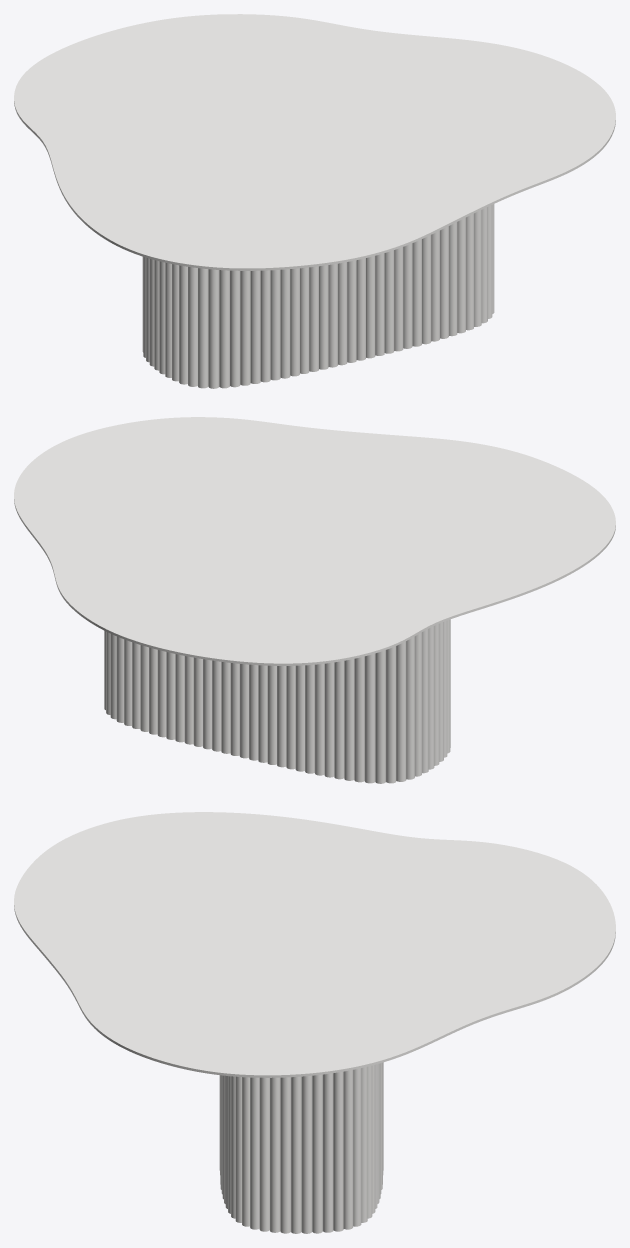
The model's file is purewhite_topone_facet_newtable.glb.
3 views of the same model, one above another, from view 1: azimuth 30°, elevation 25°; view 2: azimuth 150°, elevation 25°; view 3: azimuth 270°, elevation 25° (orthographic). The views are drawn at different scales.
Parts seen in each view (by area): view 1: facet_topone, newtable; view 2: facet_topone, newtable; view 3: facet_topone, newtable.
Boxes of the visible parts, x1=… form: facet_topone: x1=14, y1=14, x2=615, y2=270; newtable: x1=142, y1=204, x2=494, y2=388; facet_topone: x1=14, y1=417, x2=615, y2=665; newtable: x1=104, y1=619, x2=450, y2=783; facet_topone: x1=14, y1=812, x2=615, y2=1077; newtable: x1=219, y1=1062, x2=383, y2=1233.
Size of the model in its own units: 6.83 by 2.5 by 6.6.
Materials: 2 (2 with a texture image).
